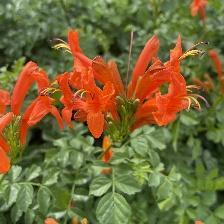honeysuckle: (26, 43, 203, 135)
